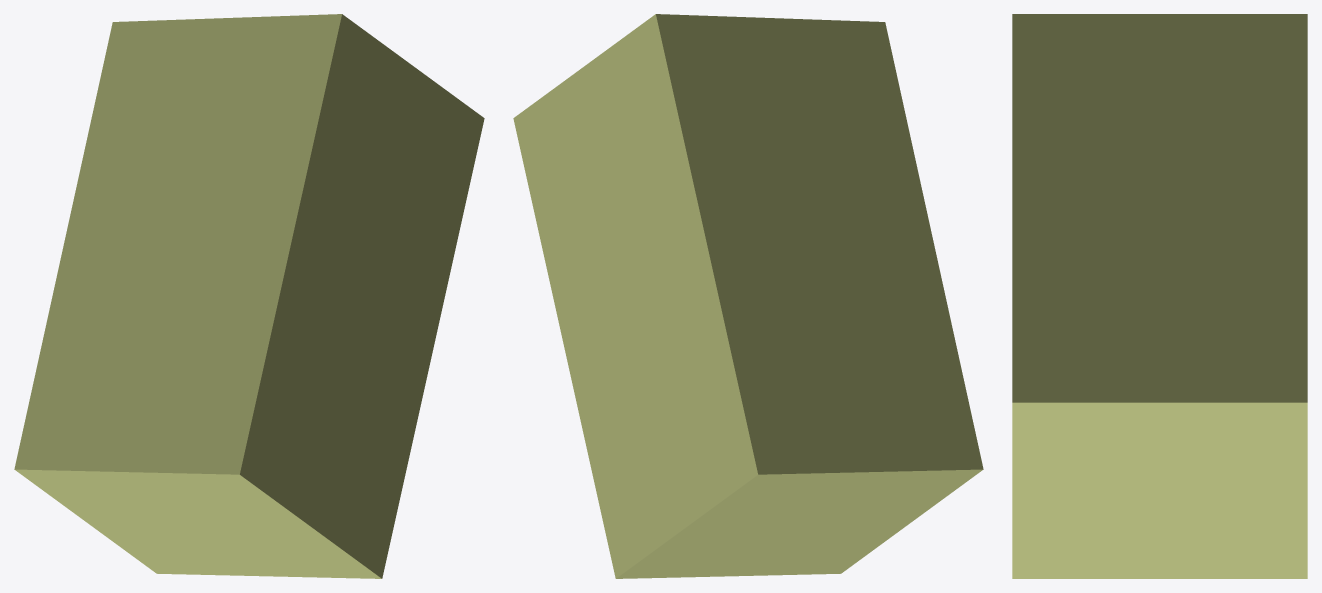
3 renders of one model, left to right at view 1: azimuth 30°, elevation 25°; view 2: azimuth 150°, elevation 25°; view 3: azimuth 270°, elevation 25°, orthographic. The views are drawn at different scales.
Visible parts, largest first — view 1: 0_1_0_1_3_3_3_2_3_1_2; view 2: 0_1_0_1_3_3_3_2_3_1_2; view 3: 0_1_0_1_3_3_3_2_3_1_2.
Boxes of the visible parts, x1,y1,x2,y2 form: 0_1_0_1_3_3_3_2_3_1_2: (14,14,484,578); 0_1_0_1_3_3_3_2_3_1_2: (513,14,983,578); 0_1_0_1_3_3_3_2_3_1_2: (1012,14,1307,578).
Bounding box in the file's own units: 7.97 × 11.24 × 6.
